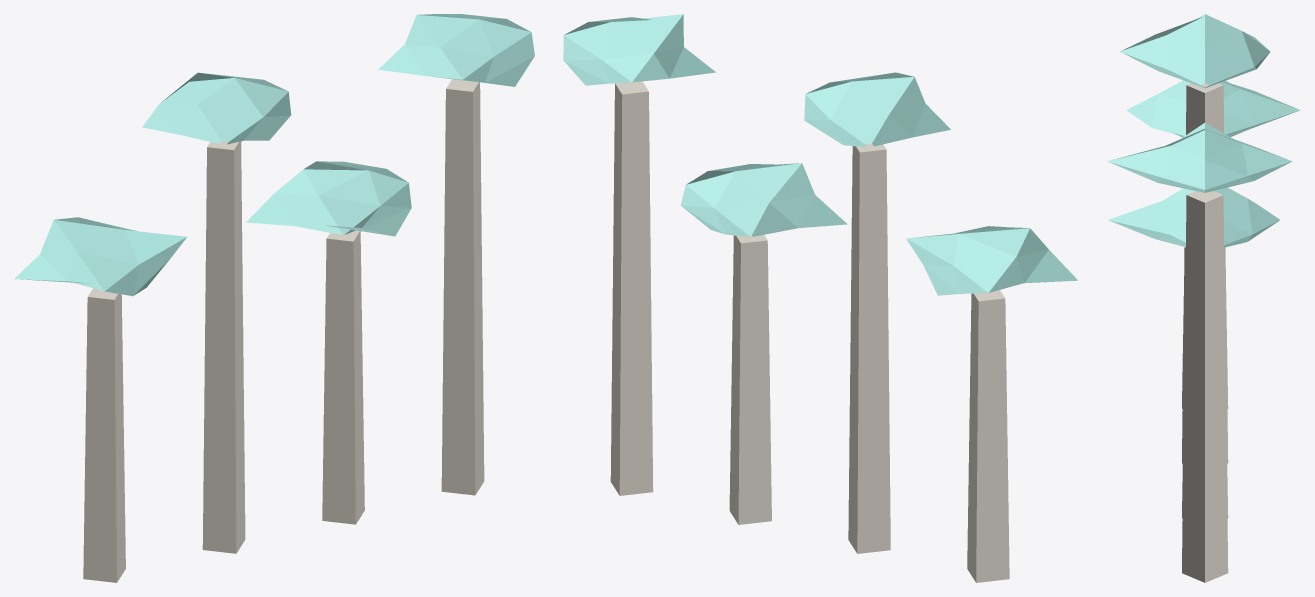
Rendered from glowcap_v29.glb.
3 renders of one model, left to right at view 1: azimuth 30°, elevation 25°; view 2: azimuth 150°, elevation 25°; view 3: azimuth 270°, elevation 25°, orthographic. The views are drawn at different scales.
Visible parts, largest first — view 1: lod0; view 2: lod0; view 3: lod0.
Part boxes in pixels (x1=…): lod0: x1=14, y1=14, x2=534, y2=582; lod0: x1=563, y1=14, x2=1077, y2=582; lod0: x1=1107, y1=14, x2=1300, y2=582.
Size of what is drawn, in the model's own units: 0.6067 by 0.5291 by 0.2088.
